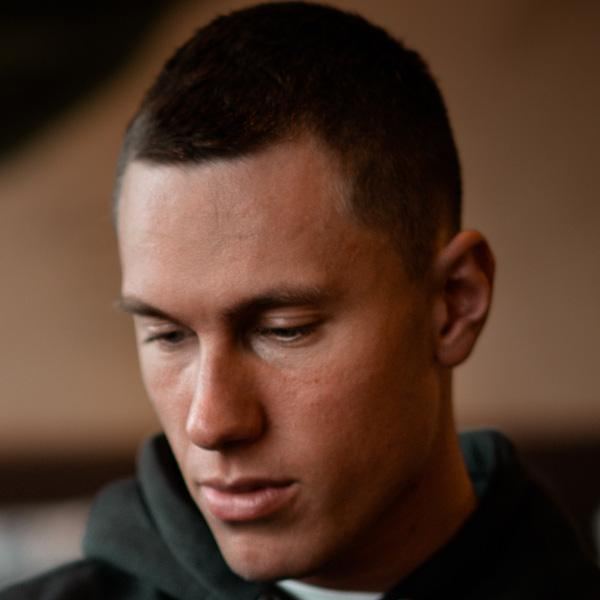Eyes: (237, 306, 333, 354), (132, 309, 202, 359)
